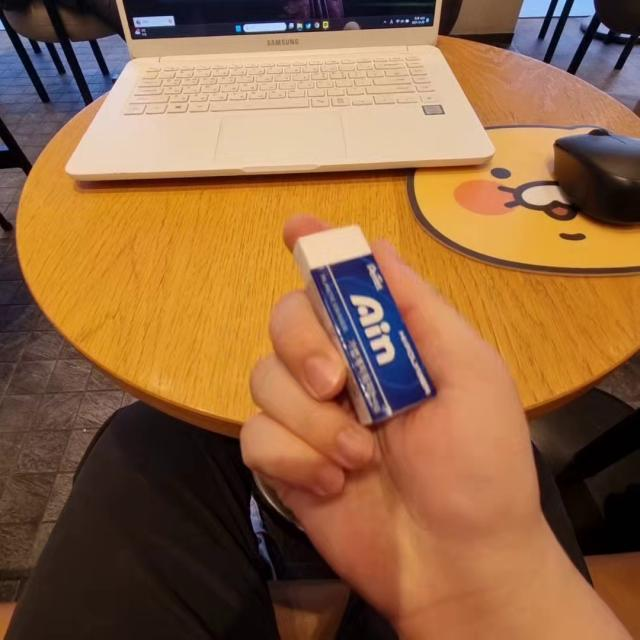eraser: (300, 214, 434, 422)
grab_eraser: (232, 200, 568, 614)
mouse: (529, 111, 640, 235)
